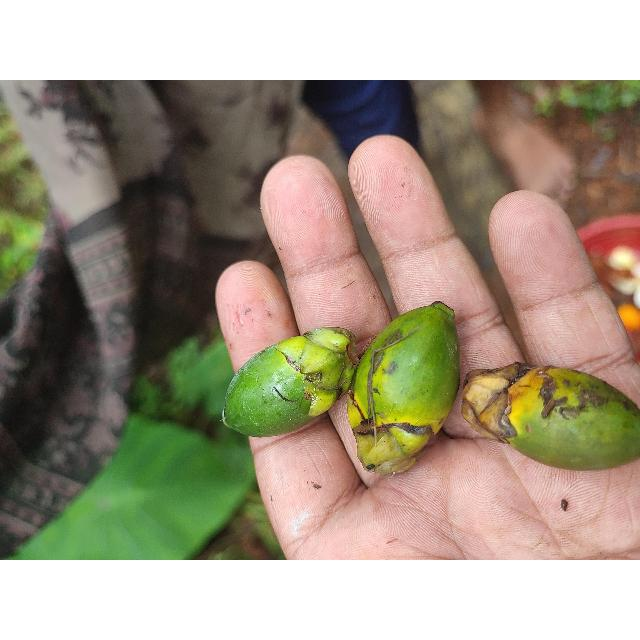damaged: (347, 303, 461, 478), (460, 364, 640, 473), (222, 328, 355, 439)
